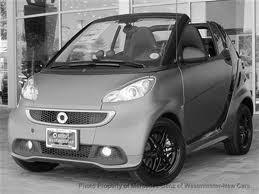car: (8, 7, 256, 190)
